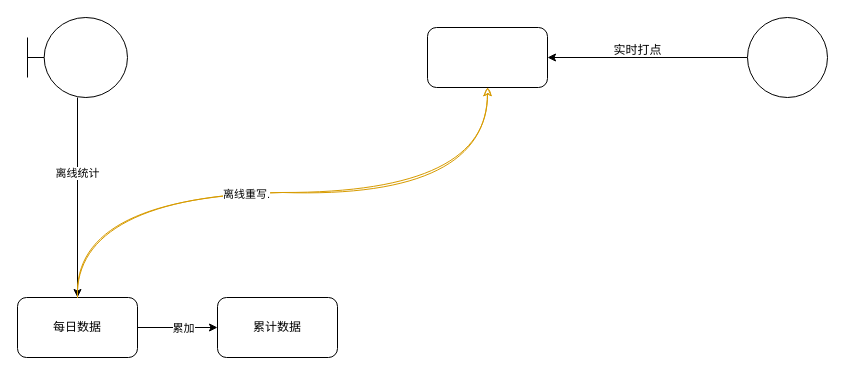
This 845x375 diagram has some shape labels left out. Each missing label, with the centre of its shape:
"定时任务" belongs at point 77,57.
"实时数据" belongs at point 487,57.
